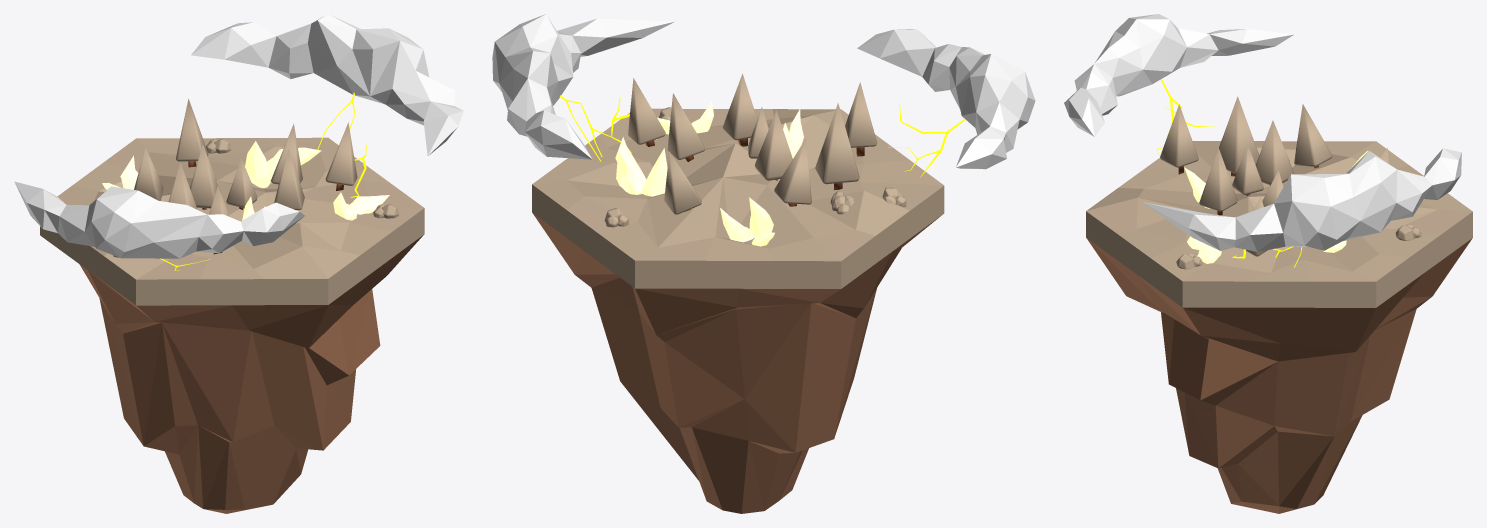
Rendered from trocao (mineral luminoso).fbx.
The picture shows the model from 3 angles, left to right: view 1: azimuth 30°, elevation 25°; view 2: azimuth 150°, elevation 25°; view 3: azimuth 270°, elevation 25°; orthographic projection. The views are drawn at different scales.
Parts seen in each view (by area): view 1: trovão (Mineral luminoso); view 2: trovão (Mineral luminoso); view 3: trovão (Mineral luminoso).
Boxes of the visible parts, bbox=[...] form: trovão (Mineral luminoso): bbox=[14, 14, 463, 513]; trovão (Mineral luminoso): bbox=[492, 14, 1035, 513]; trovão (Mineral luminoso): bbox=[1064, 14, 1472, 513].
Bounding box in the file's own units: 1468 × 1394 × 1199.
